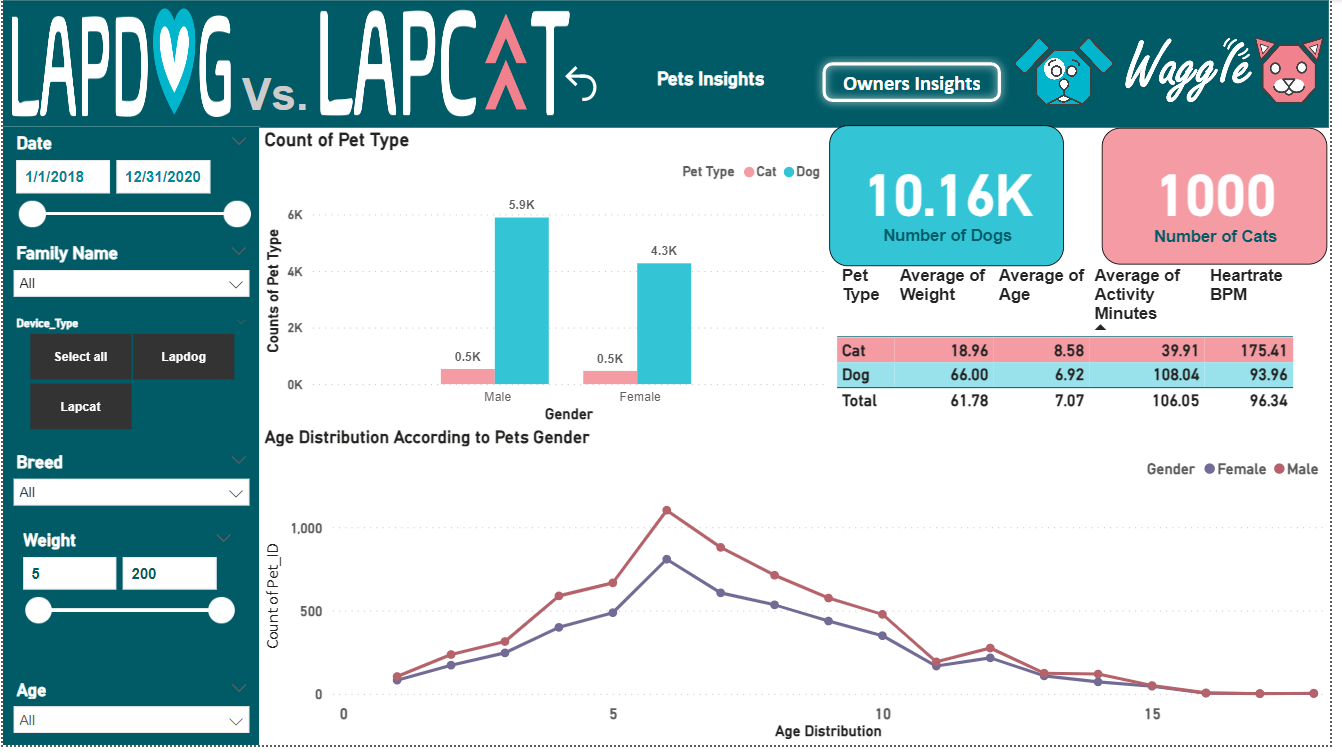

This screenshot's page, from the dashboard's own definition file:
{"tool":"powerbi","page":{"name":"Pets Insights","canvas":[1280,720],"ordinal":1},"visuals":[{"type":"shape","box":[0,1.2,1279.6,123],"z":0},{"type":"textbox","box":[225.5,62.7,94.1,59.1],"z":1000},{"type":"shape","box":[0,123,247.2,597],"z":2000},{"type":"image","box":[299.1,3.6,253.3,118.2],"z":3000},{"type":"image","box":[0,0,225.5,120.6],"z":4000},{"type":"image","box":[1202.4,31.4,77.2,74.8],"z":5000},{"type":"image","box":[970.9,31.4,106.1,76],"z":6000},{"type":"image","box":[1077,31.4,133.9,74.8],"z":7000},{"type":"slicer","fields":{"Values":["Date_Table.Date"]},"box":[0,124.2,247.2,152],"z":10000},{"type":"slicer","fields":{"Values":["Pet_Data.Age"]},"box":[0,651.3,247.2,68.7],"z":11000},{"type":"slicer","fields":{"Values":["Family_Data.Family_Name"]},"box":[0,230.4,247.2,80.8],"z":12000},{"type":"slicer","fields":{"Values":["Rating_Data.Device_Type"]},"box":[0,301.5,247.2,120.6],"z":13000},{"type":"slicer","fields":{"Values":["Pet_Data.Weight"]},"box":[1.2,492.1,246,160.4],"z":14000},{"type":"slicer","fields":{"Values":["Pet_Data.Breed"]},"box":[0,431.8,247.2,76],"z":15000},{"type":"actionButton","title":"Owners Insights Physical","box":[782.7,53.1,188.1,54.3],"z":17000},{"type":"actionButton","box":[535.5,59.1,56.7,44.6],"z":19000},{"type":"actionButton","title":"Pets Insights Blurred","box":[592.1,48.8,181.1,55.7],"z":22000},{"type":"clusteredColumnChart","title":"Count of Pet Type","fields":{"Category":["Pet_Data.Gender"],"Series":["Pet_Data.Dog/Cat"],"Y":["Pet_Data.Pet_ID"]},"box":[247.4,125.2,551.3,287.6],"z":24000},{"type":"lineChart","title":"Age Distribution According to Pets Gender","fields":{"Category":["Pet_Data.Age"],"Y":["Pet_Data.Pet_ID"],"Series":["Pet_Data.Gender"]},"box":[247.4,412.8,1032.6,307],"z":25000},{"type":"tableEx","fields":{"Values":["Pet_Data.Dog/Cat","Pet_Data.Weight","Pet_Data.Age","Tracker_Data.Activity_Minutes","Tracker_Data.Heartrate_BPM"]},"box":[797.8,249.9,482.2,163.7],"z":26000},{"type":"card","fields":{"Values":["Pet_Data.Dog/Cat"]},"box":[1060.6,123.6,217.7,132.4],"z":27000},{"type":"card","fields":{"Values":["Pet_Data.Dog/Cat"]},"box":[797.6,121.9,226.4,135.8],"z":28000}]}

Visuals, with their boxes in screenshot pixels (x1, y1, x2, y2), scaled from the page's 1280x720 canvas onto the 1342x753 screenshot:
shape: 0 1 1341 130
textbox: 236 66 335 127
shape: 0 129 259 752
image: 314 4 579 127
image: 0 0 236 126
image: 1261 33 1341 111
image: 1018 33 1129 112
image: 1129 33 1270 111
slicer - Date_Table.Date: 0 130 259 289
slicer - Pet_Data.Age: 0 681 259 752
slicer - Family_Data.Family_Name: 0 241 259 325
slicer - Rating_Data.Device_Type: 0 315 259 441
slicer - Pet_Data.Weight: 1 515 259 682
slicer - Pet_Data.Breed: 0 452 259 531
"Owners Insights Physical" actionButton: 821 56 1018 112
actionButton: 561 62 621 108
"Pets Insights Blurred" actionButton: 621 51 811 109
"Count of Pet Type" clusteredColumnChart: 259 131 837 432
"Age Distribution According to Pets Gender" lineChart: 259 432 1341 752
tableEx - Pet_Data.Dog/Cat x Pet_Data.Weight: 836 261 1341 433
card - Pet_Data.Dog/Cat: 1112 129 1340 268
card - Pet_Data.Dog/Cat: 836 127 1074 270
